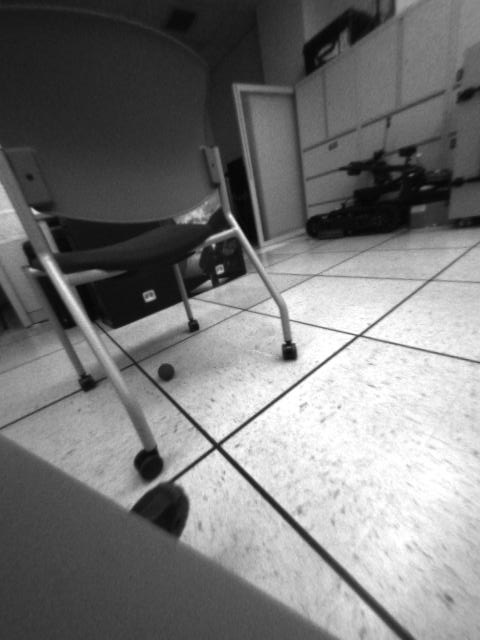dogtoy: (151, 356, 185, 387)
